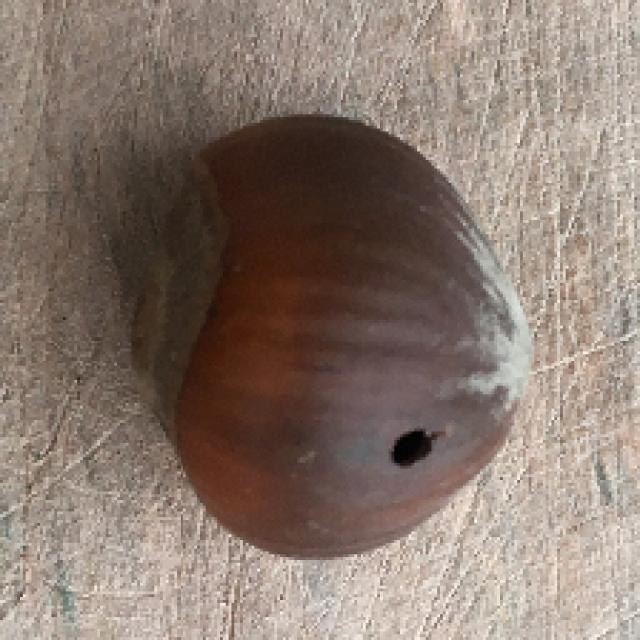damagedHazelnut: (119, 112, 540, 567)
